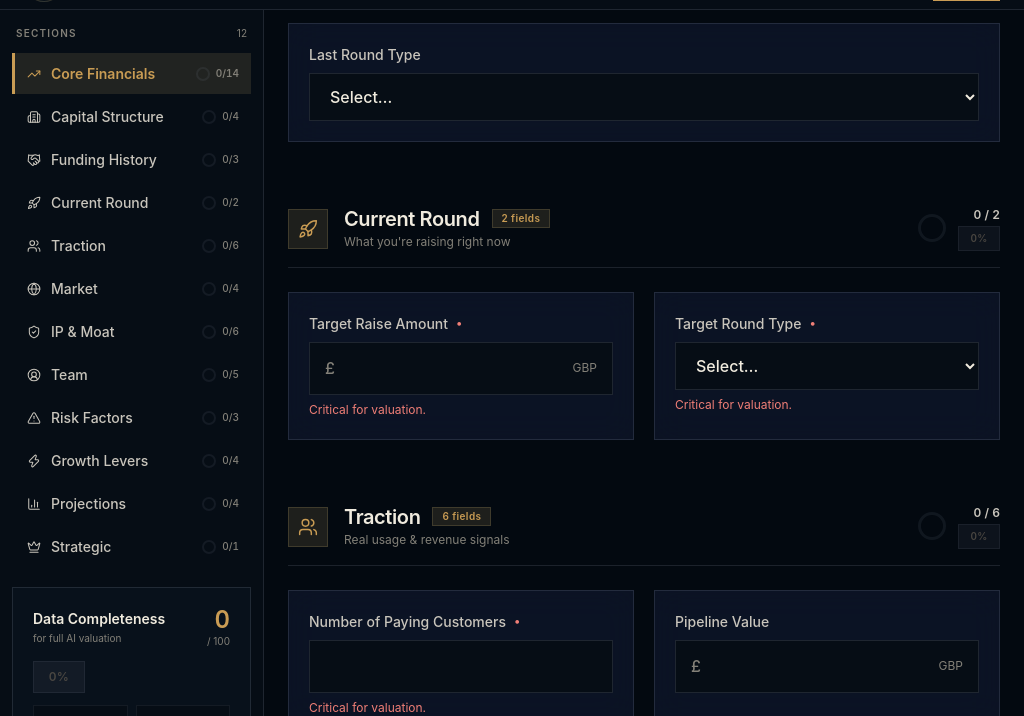
Test case: IntakeForm — Q5 metamorphic › preserves a prior round's supplementary entries when switching back
The image size is (1024, 716).
(page scrolled)
Select "Seed" in the dropdown labelled "Target Round Type" at (827, 366), box x1=675 y1=342 x2=979 y2=390
(page scrolled)
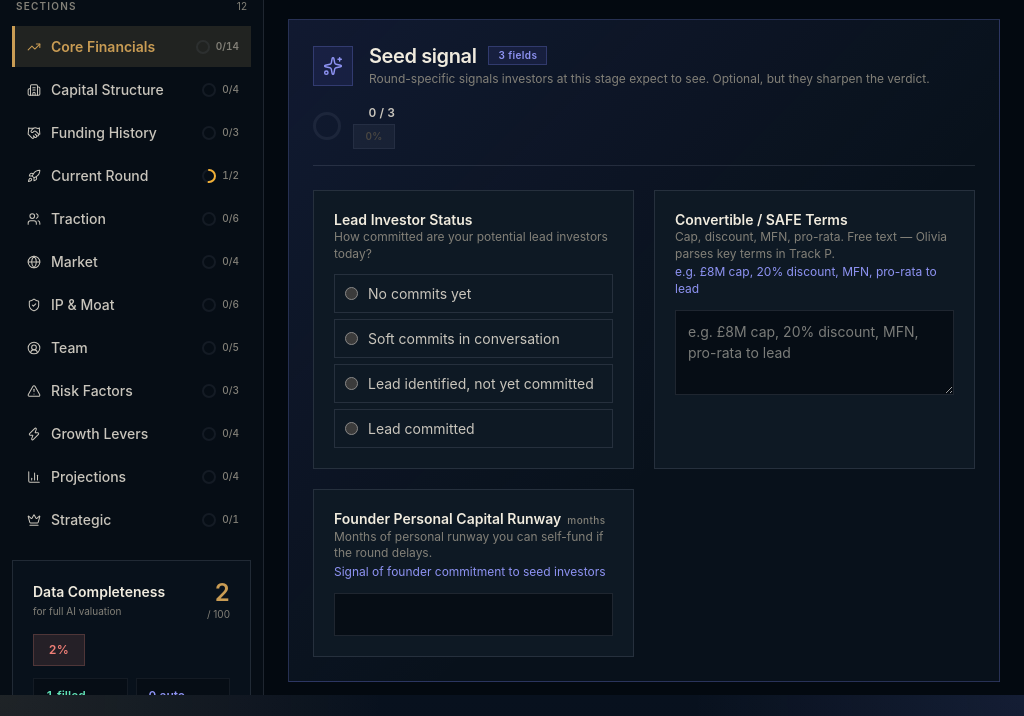
Click the radio button labelled "Soft commits in conversation" at (352, 339), box x1=345 y1=332 x2=358 y2=345
(page scrolled)
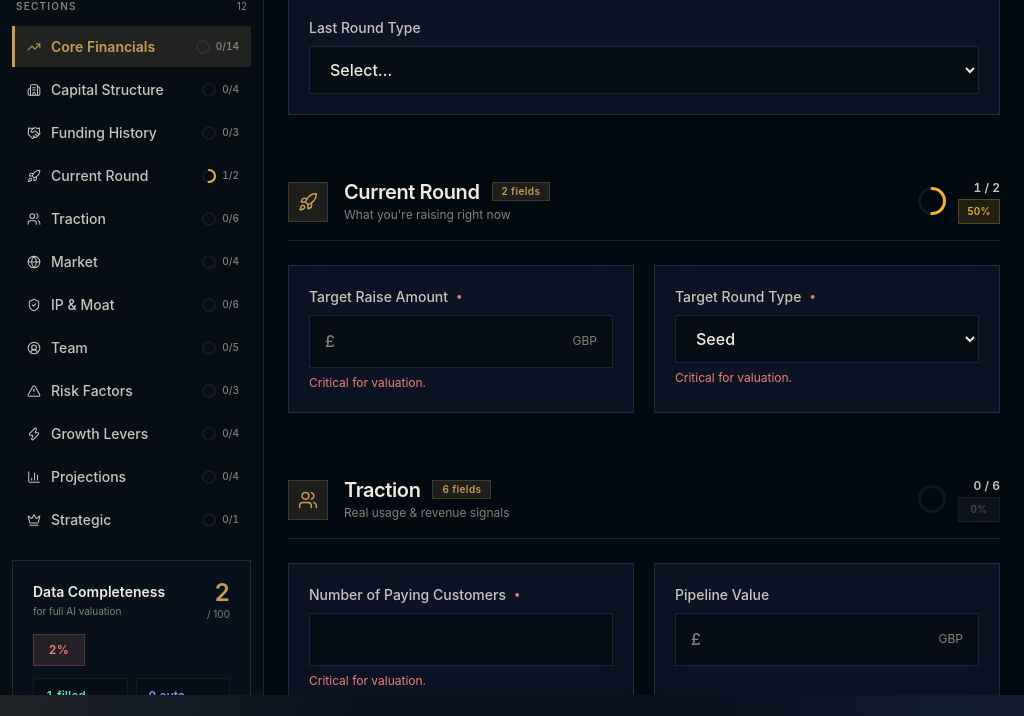
Select "Series A" in the dropdown labelled "Target Round Type" at (827, 339), box x1=675 y1=315 x2=979 y2=363
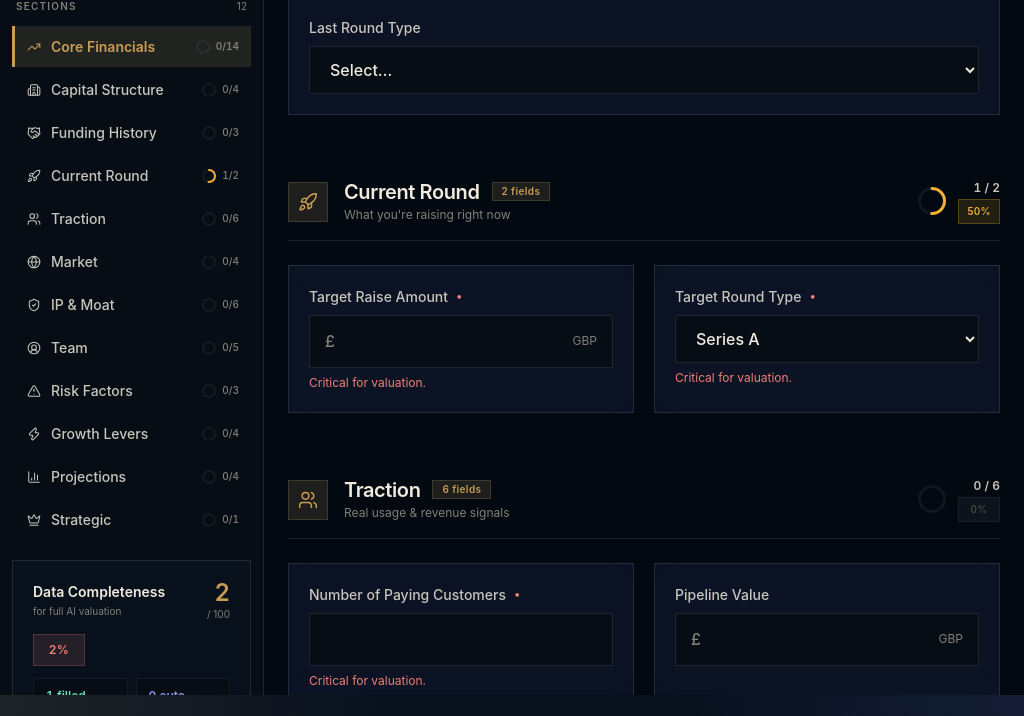
Select "Seed" in the dropdown labelled "Target Round Type" at (827, 339), box x1=675 y1=315 x2=979 y2=363
(page scrolled)
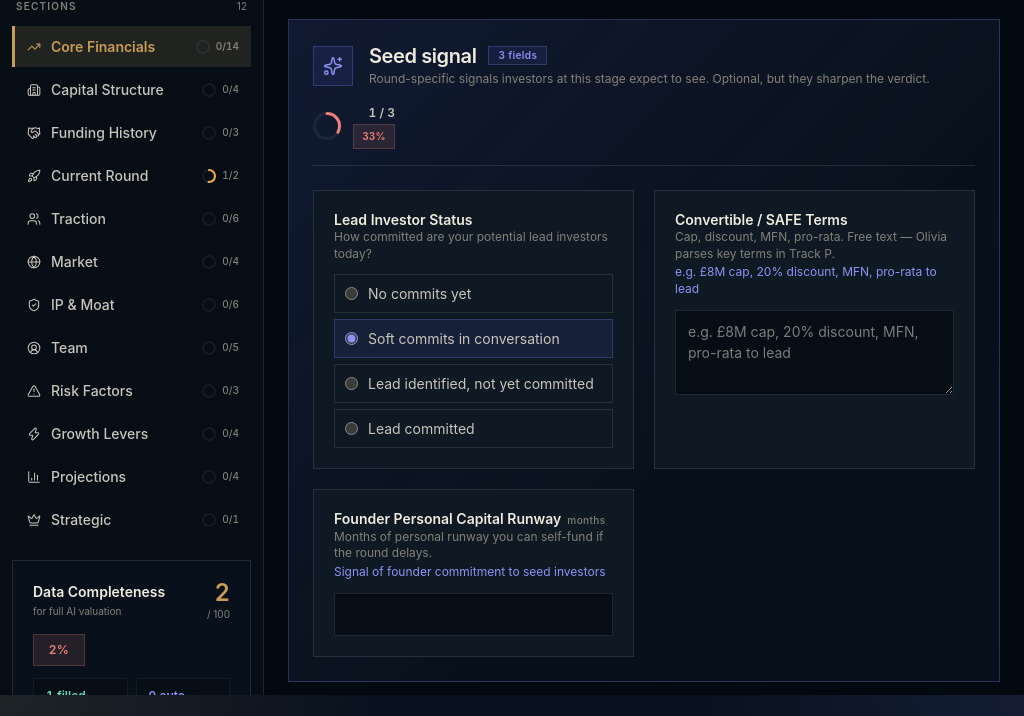
Now the radio button labelled "Soft commits in conversation" is checked, box x1=345 y1=332 x2=358 y2=345
